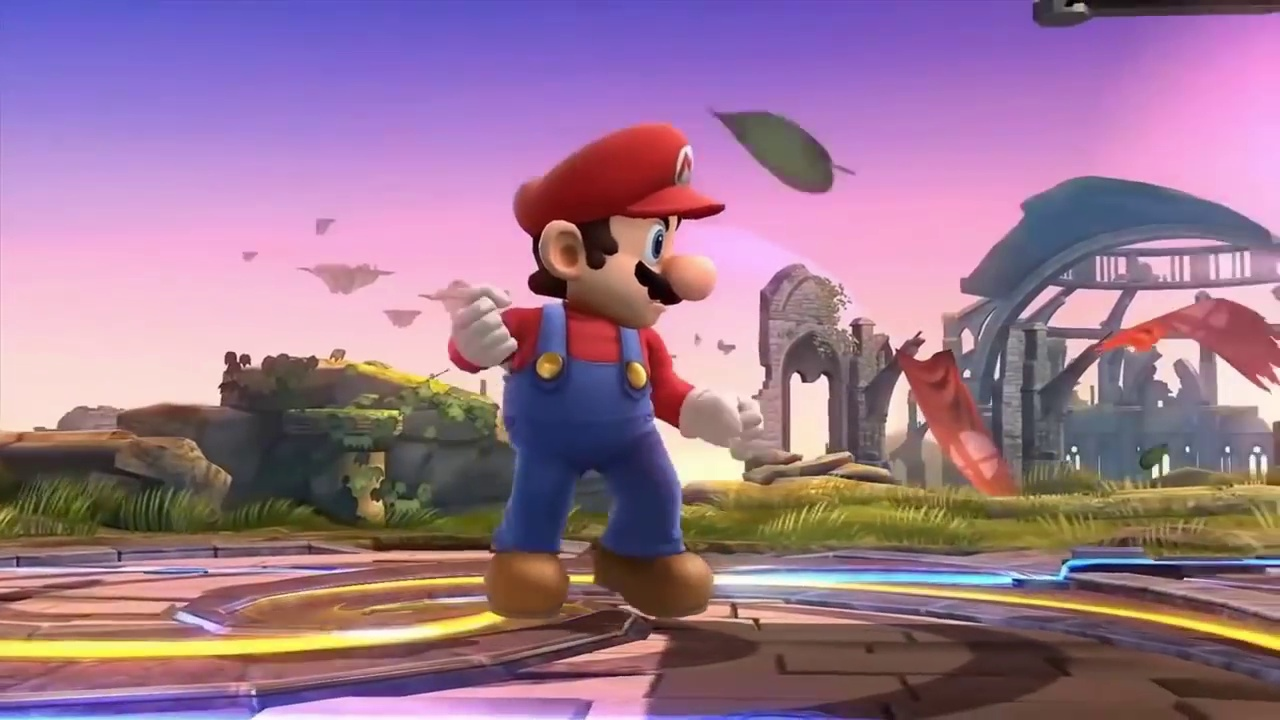Mario: (449, 121, 764, 621)
